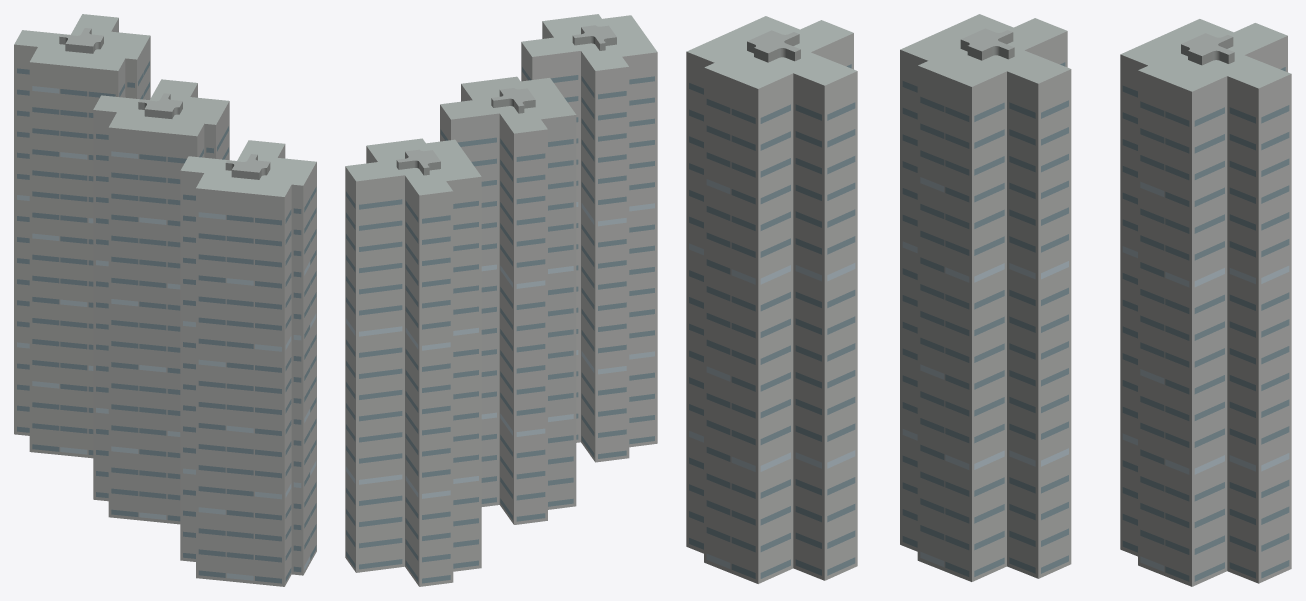
The model's file is apt-a14070302.glb.
The picture shows the model from 3 angles, left to right: view 1: azimuth 30°, elevation 25°; view 2: azimuth 150°, elevation 25°; view 3: azimuth 270°, elevation 25°; orthographic projection. The views are drawn at different scales.
Parts seen in each view (by area): view 1: apt-a14070302; view 2: apt-a14070302; view 3: apt-a14070302.
Part boxes in pixels (bbox=[...]): apt-a14070302: bbox=[14, 14, 316, 586]; apt-a14070302: bbox=[345, 14, 657, 586]; apt-a14070302: bbox=[686, 14, 1291, 586].
Size of the model in its own units: 43.02 by 130 by 141.
